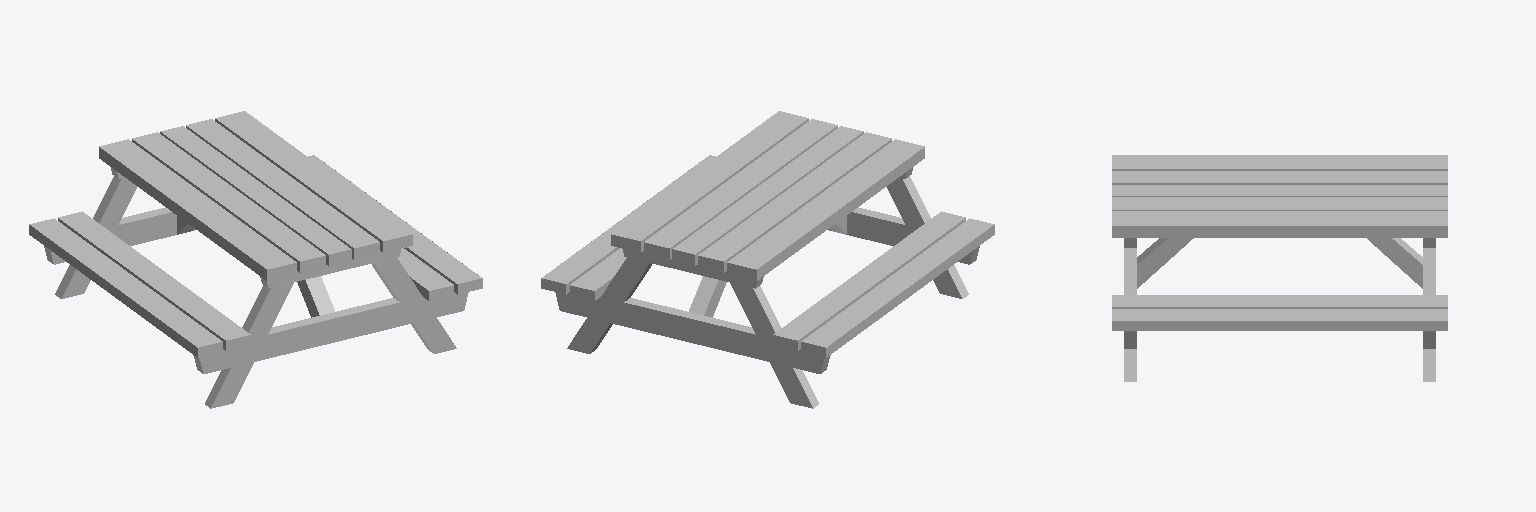
File: picnictable.obj
3 views of the same model, side by side, from view 1: azimuth 30°, elevation 25°; view 2: azimuth 150°, elevation 25°; view 3: azimuth 270°, elevation 25° (orthographic).
Bounding box in the file's own units: 12.35 × 5.44 × 12.65.